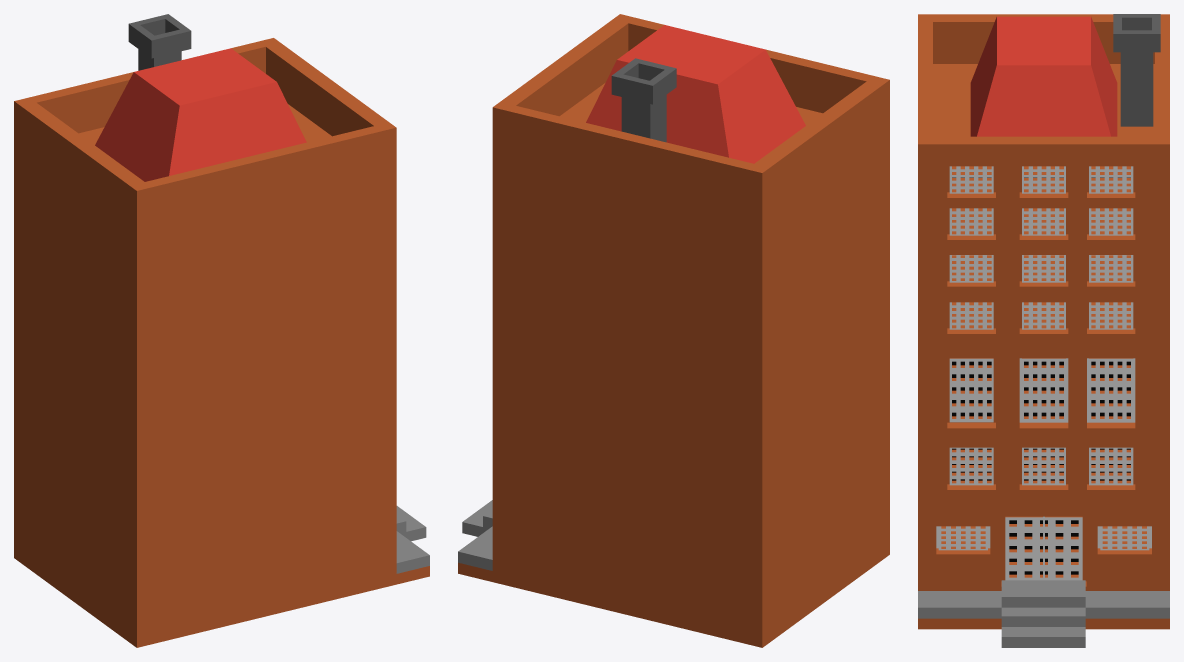
The model's file is oud gebouw 3 met kleur.glb.
3 renders of one model, left to right at view 1: azimuth 30°, elevation 25°; view 2: azimuth 150°, elevation 25°; view 3: azimuth 270°, elevation 25°, orthographic. The views are drawn at different scales.
Parts seen in each view (by area): view 1: Cube, Cube.002; view 2: Cube, Cube.002; view 3: Cube, Cube.002.
Part boxes in pixels (<box>): Cube: <box>14,38,429,647</box>; Cube.002: <box>128,14,191,70</box>; Cube: <box>458,14,889,647</box>; Cube.002: <box>611,58,676,142</box>; Cube: <box>918,14,1169,647</box>; Cube.002: <box>1113,14,1160,126</box>.
Bounding box in the file's own units: 12.04 × 17.82 × 7.76.
